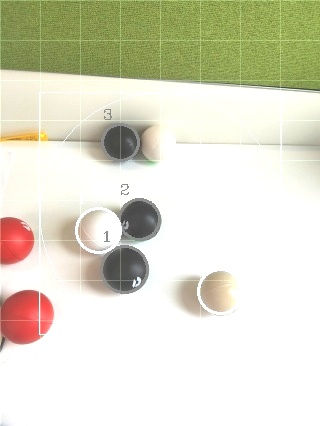Pelota blanca: (74, 206, 123, 254), (196, 268, 243, 315), (137, 124, 177, 163)
Pelota negra: (100, 244, 150, 296), (119, 196, 163, 240), (100, 124, 139, 160)
Pelota roja: (0, 289, 54, 344), (0, 214, 36, 264)
